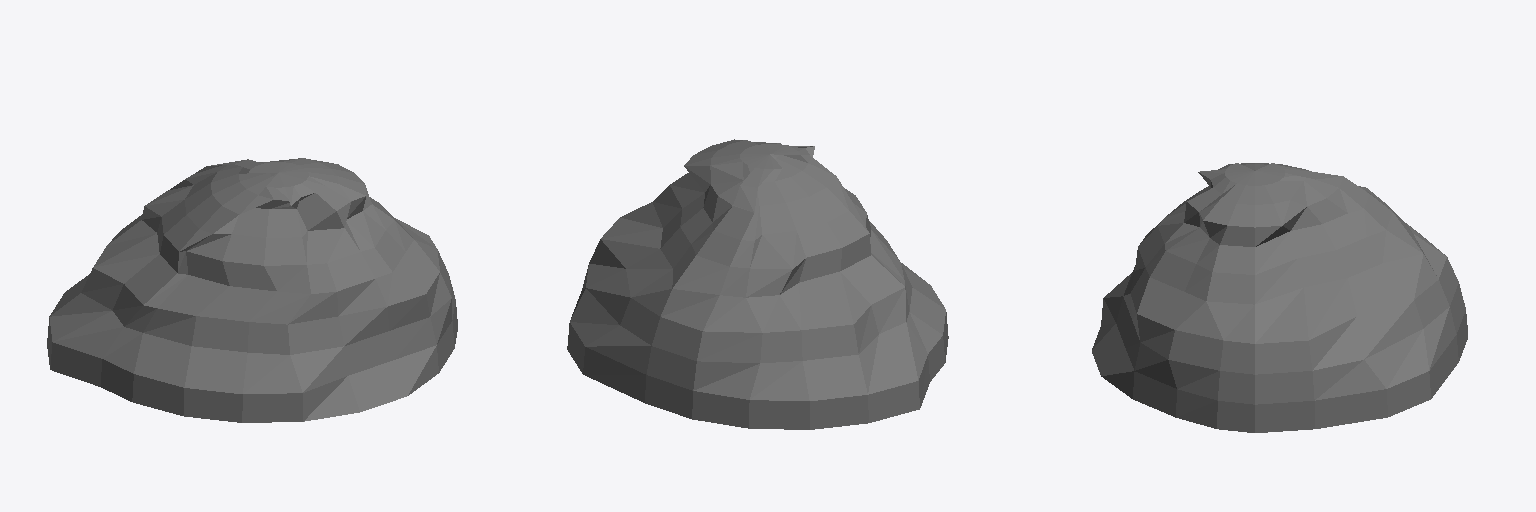
File: Rock.obj
3 renders of one model, left to right at view 1: azimuth 30°, elevation 25°; view 2: azimuth 150°, elevation 25°; view 3: azimuth 270°, elevation 25°, orthographic.
Visible parts, largest first — view 1: pSphere8; view 2: pSphere8; view 3: pSphere8.
Boxes of the visible parts, x1,y1,x2,y2 form: pSphere8: [47, 158, 457, 422]; pSphere8: [567, 139, 948, 429]; pSphere8: [1092, 163, 1467, 432].
Bounding box in the file's own units: 2.12 × 1.02 × 1.93.